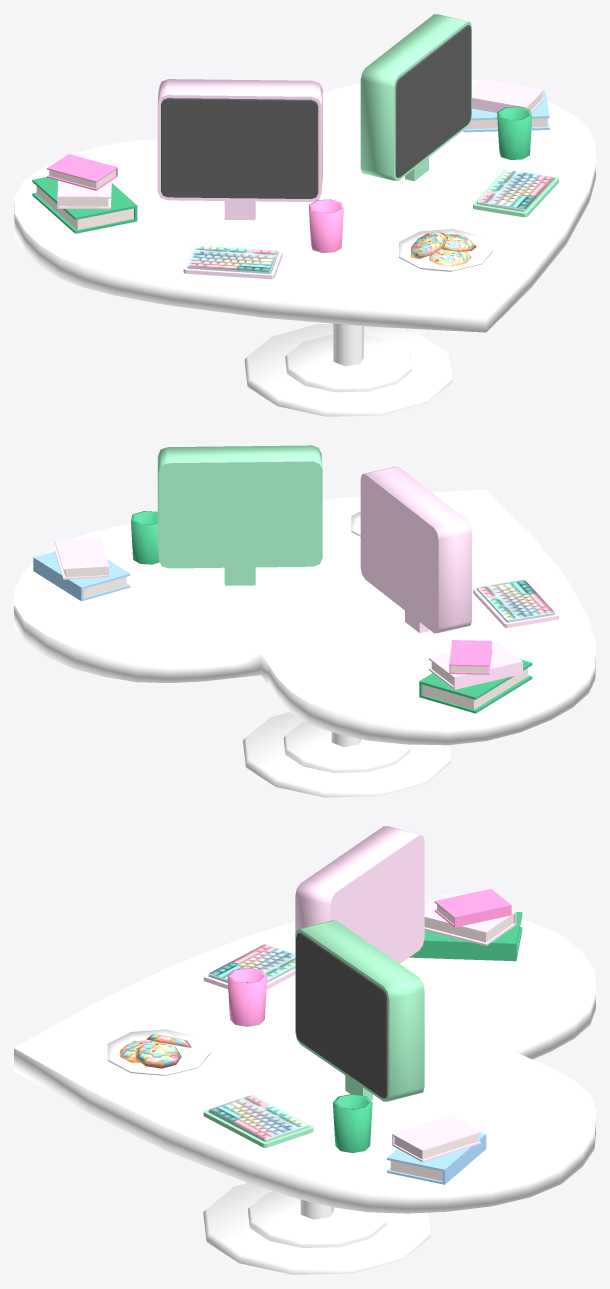
The model's file is HeartTable2.glb.
3 views of the same model, one above another, from view 1: azimuth 30°, elevation 25°; view 2: azimuth 150°, elevation 25°; view 3: azimuth 270°, elevation 25° (orthographic). The views are drawn at different scales.
Parts seen in each view (by area): view 1: HeartTable2; view 2: HeartTable2; view 3: HeartTable2.
Part boxes in pixels (box(x1,y1,x2,y2)): HeartTable2: box(14, 14, 595, 416); HeartTable2: box(14, 445, 595, 797); HeartTable2: box(14, 826, 595, 1274).
Size of what is drawn, in the model's own units: 2.9 by 1.52 by 2.5.
4 materials, 4 textured.
